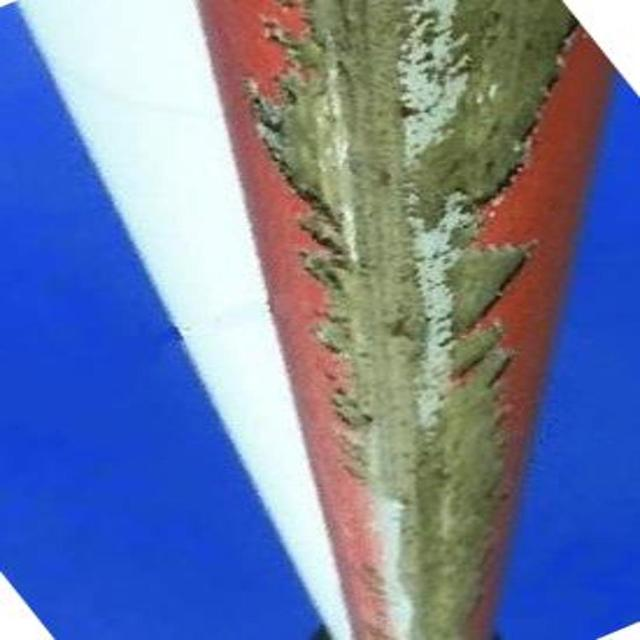corrosion: (281, 5, 549, 637)
